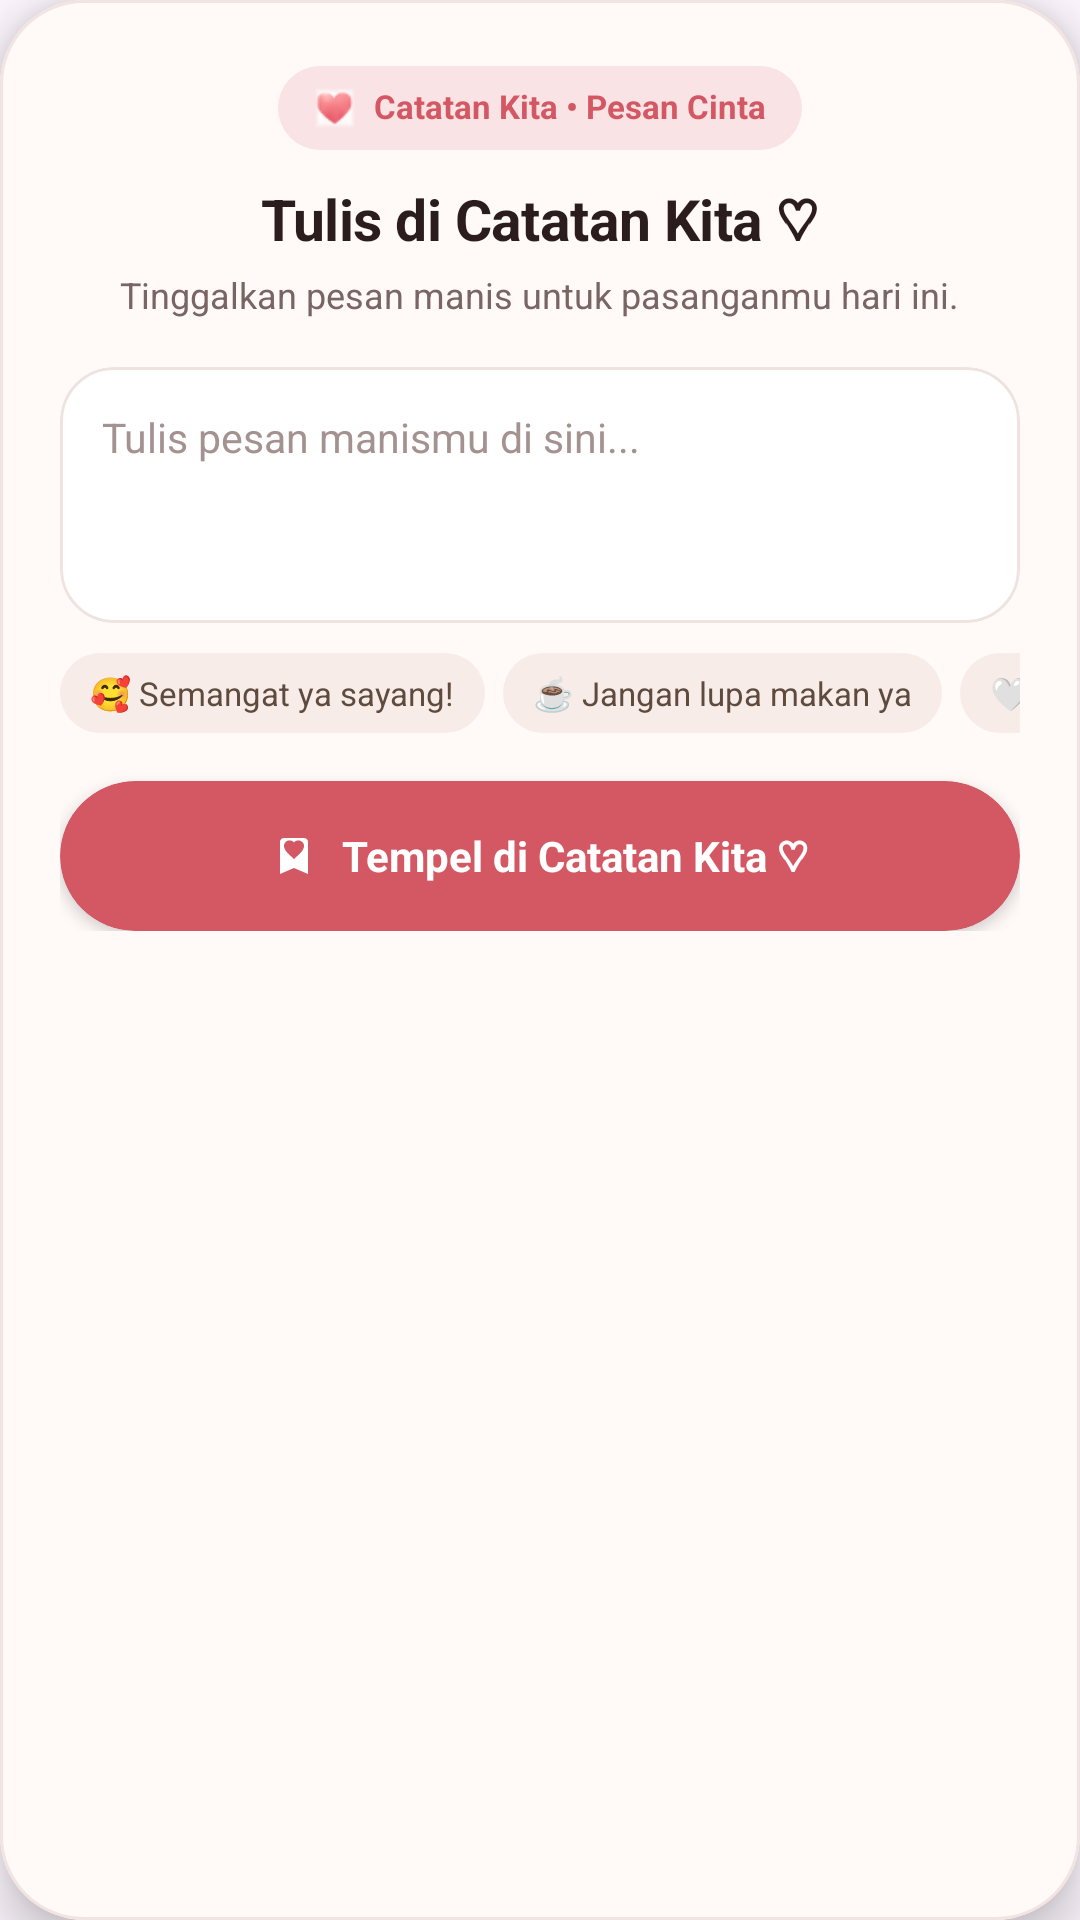

Locate icon controls on the screen. Image size 1080 x 1920, boxes as box(x1, y1, x2, y2).
bookmark heart: box(280, 838, 308, 874)
heart 3d: box(317, 93, 352, 124)
